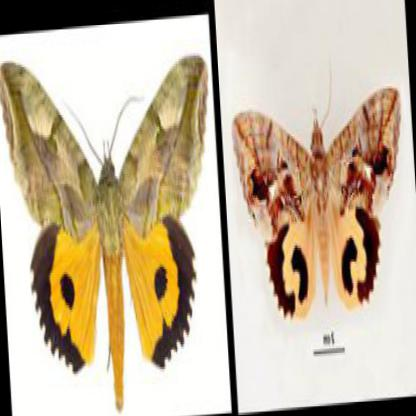fruit sucking moth: (0, 47, 205, 407), (231, 81, 402, 326)
